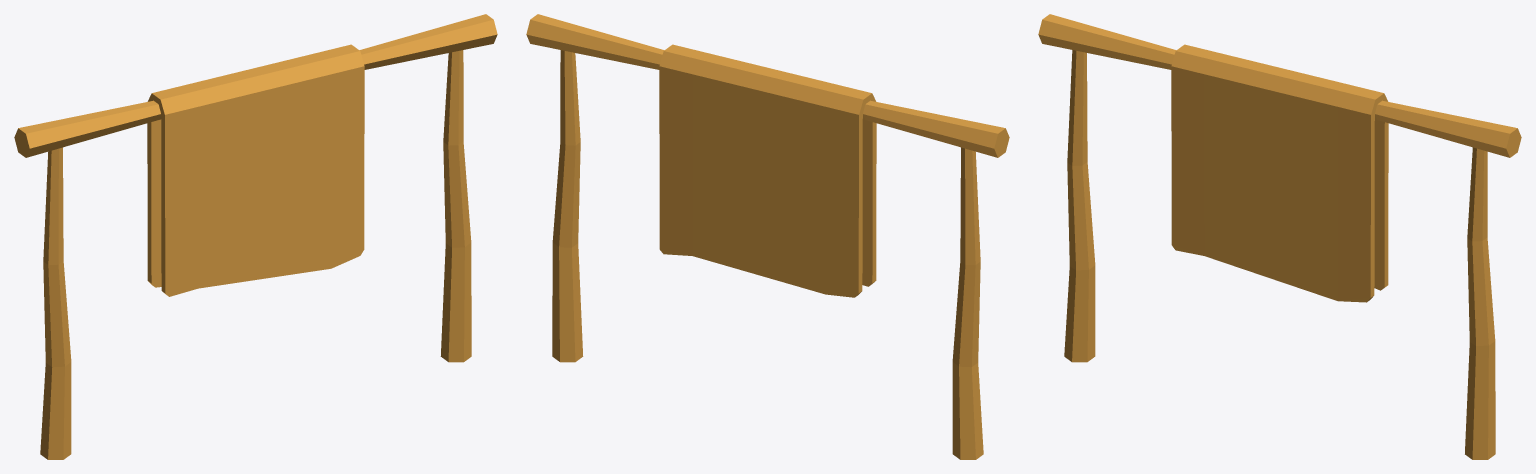
The model's file is egypt-rack.fbx.
The picture shows the model from 3 angles, left to right: view 1: azimuth 30°, elevation 25°; view 2: azimuth 150°, elevation 25°; view 3: azimuth 330°, elevation 25°; orthographic projection.
Visible parts, largest first — view 1: egypt-rack; view 2: egypt-rack; view 3: egypt-rack.
Part boxes in pixels (x1,y1,x2,y2): egypt-rack: (14,14,497,459); egypt-rack: (526,14,1009,459); egypt-rack: (1038,14,1521,459).
Bounding box in the file's own units: 3.5 × 2.39 × 0.23.
